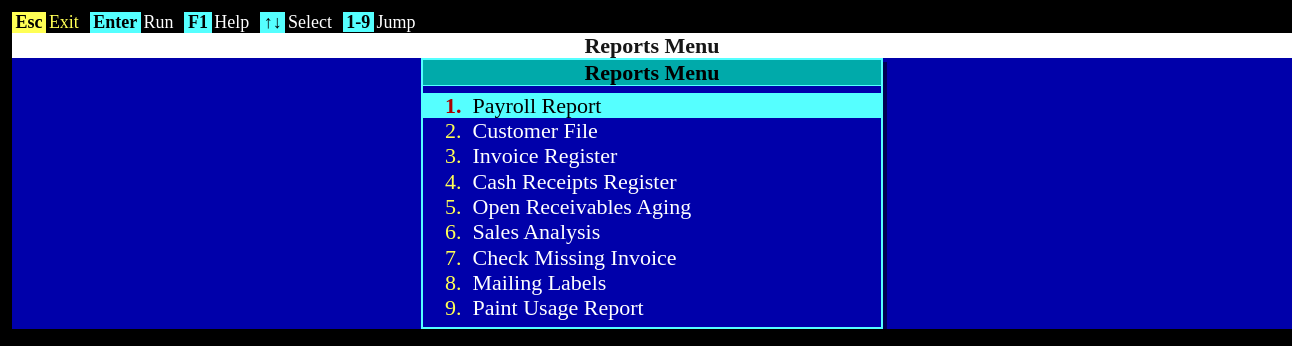
Test: ReportsScreen aging › treats ? as all companies that owe money
Click the button "5.Open Receivables Aging". click: (652, 207)
box: [423,194,881,219]
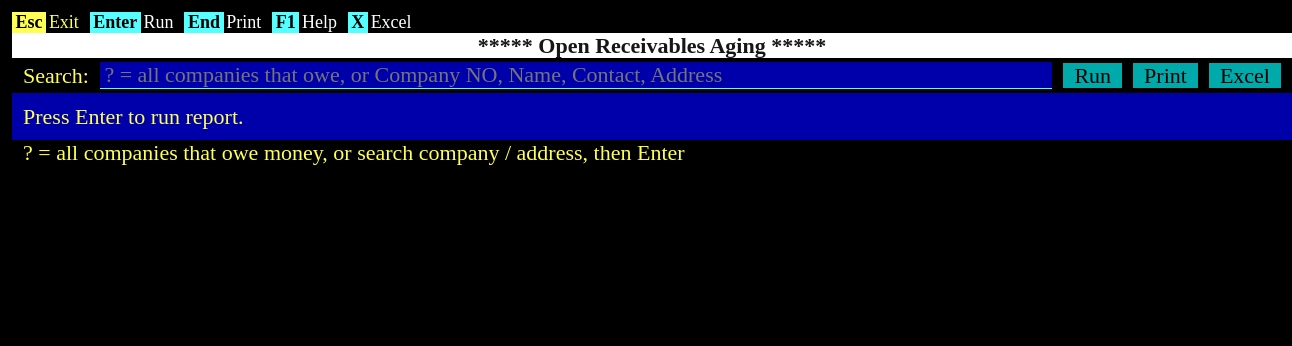
Type "?" into the field named "Aging company search". click: (576, 76)
box: [100,62,1052,89]
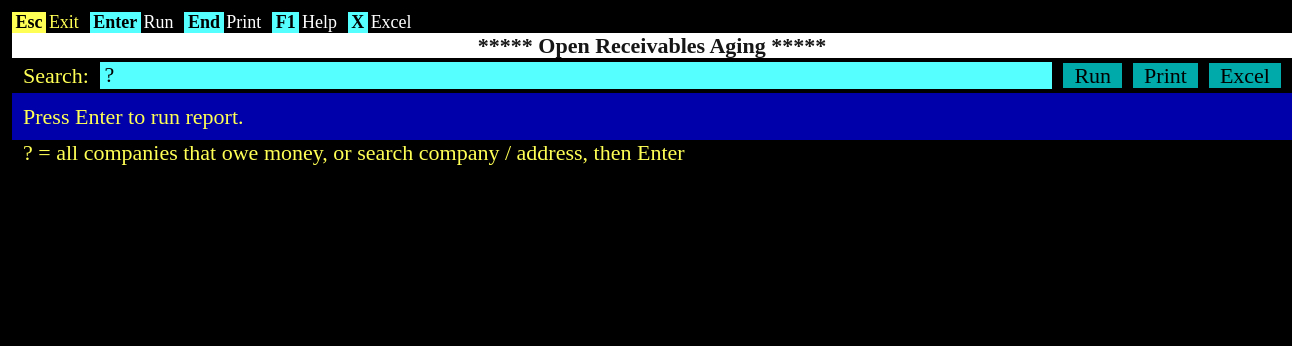
Click the button "Run". click: (1093, 76)
box: [1063,63,1122,88]
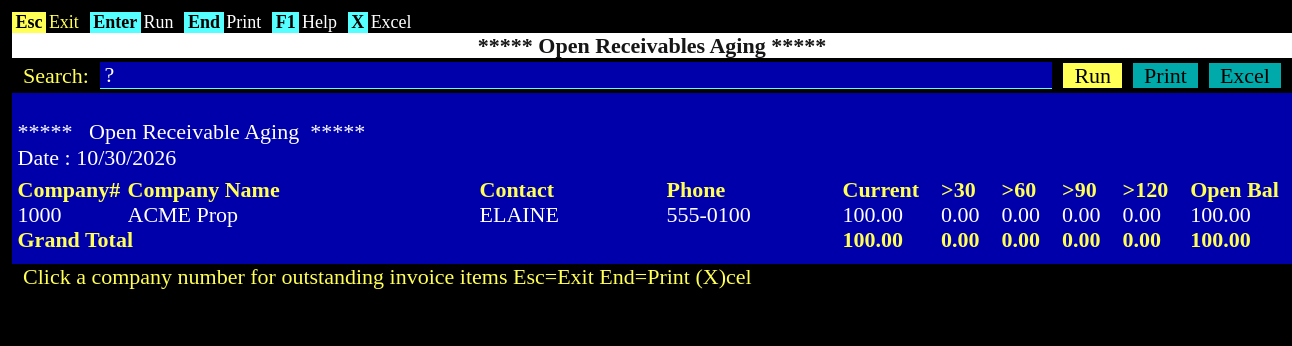
Now the text "ACME Prop" is shown, box [128,202,238,227]
